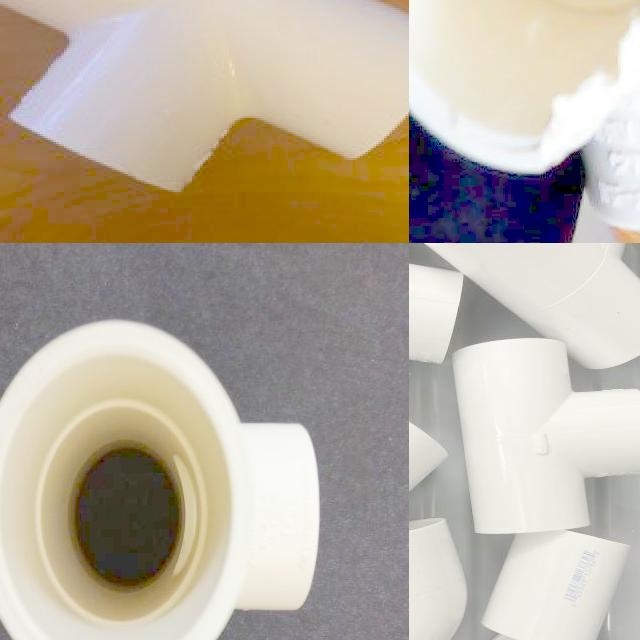Defective: (541, 67, 622, 168), (546, 10, 635, 88)
T Joint: (0, 321, 322, 640)
